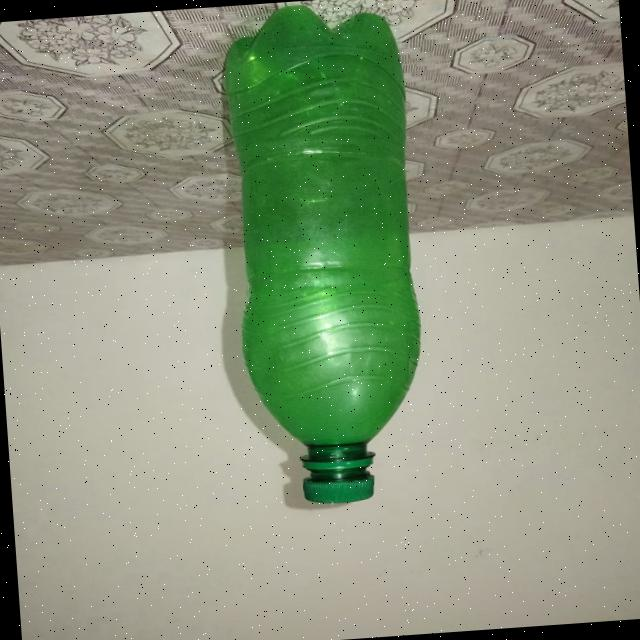bottle: (201, 0, 451, 526)
cap: (284, 446, 389, 518)
